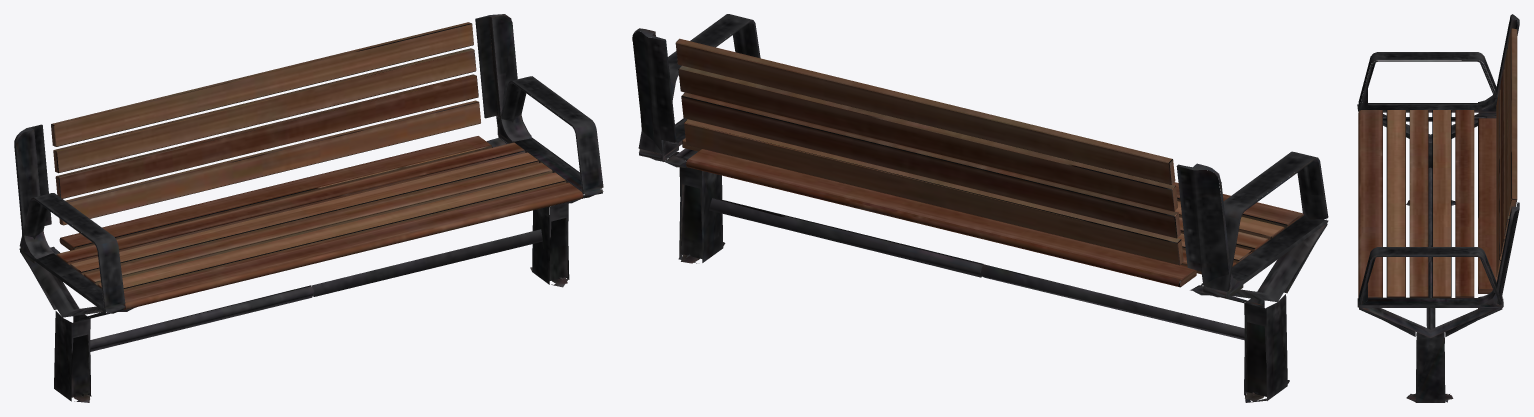
File: bench.glb
The picture shows the model from 3 angles, left to right: view 1: azimuth 30°, elevation 25°; view 2: azimuth 150°, elevation 25°; view 3: azimuth 270°, elevation 25°; orthographic projection. The views are drawn at different scales.
Visible parts, largest first — view 1: Bench; view 2: Bench; view 3: Bench.
Boxes of the visible parts, x1,y1,x2,y2 form: Bench: (14, 14, 603, 402); Bench: (632, 14, 1328, 402); Bench: (1357, 14, 1519, 402).
Bounding box in the file's own units: 1.8 × 0.7786 × 0.6077.
Materials: 1 (1 with a texture image).
